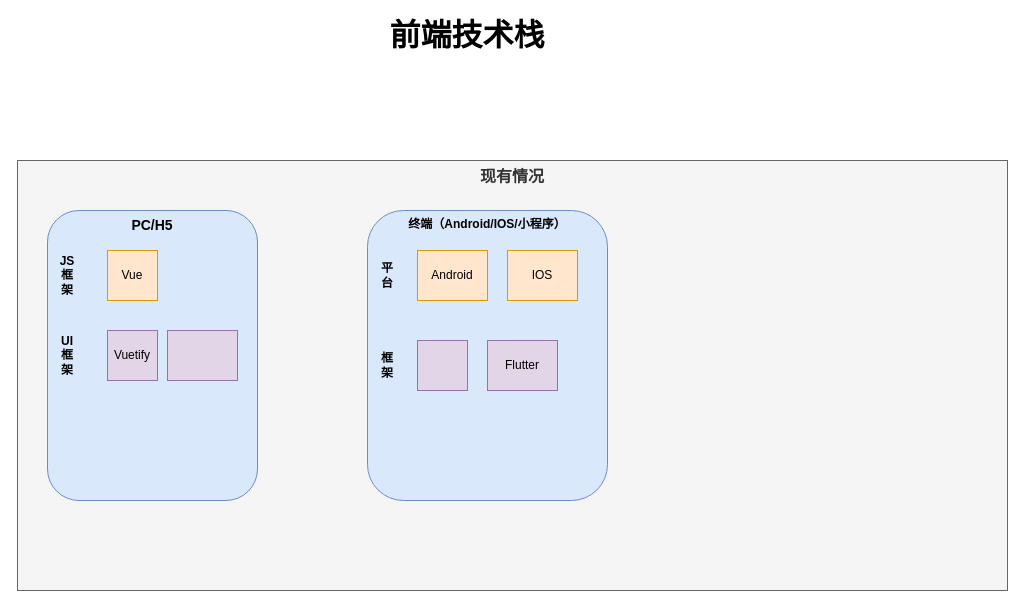
Image size: 1025x608. Some labels were removed from this diagram. Each missing label, with the centre of its shape:
ElementUi: (202,355)
UniApp: (442,365)
